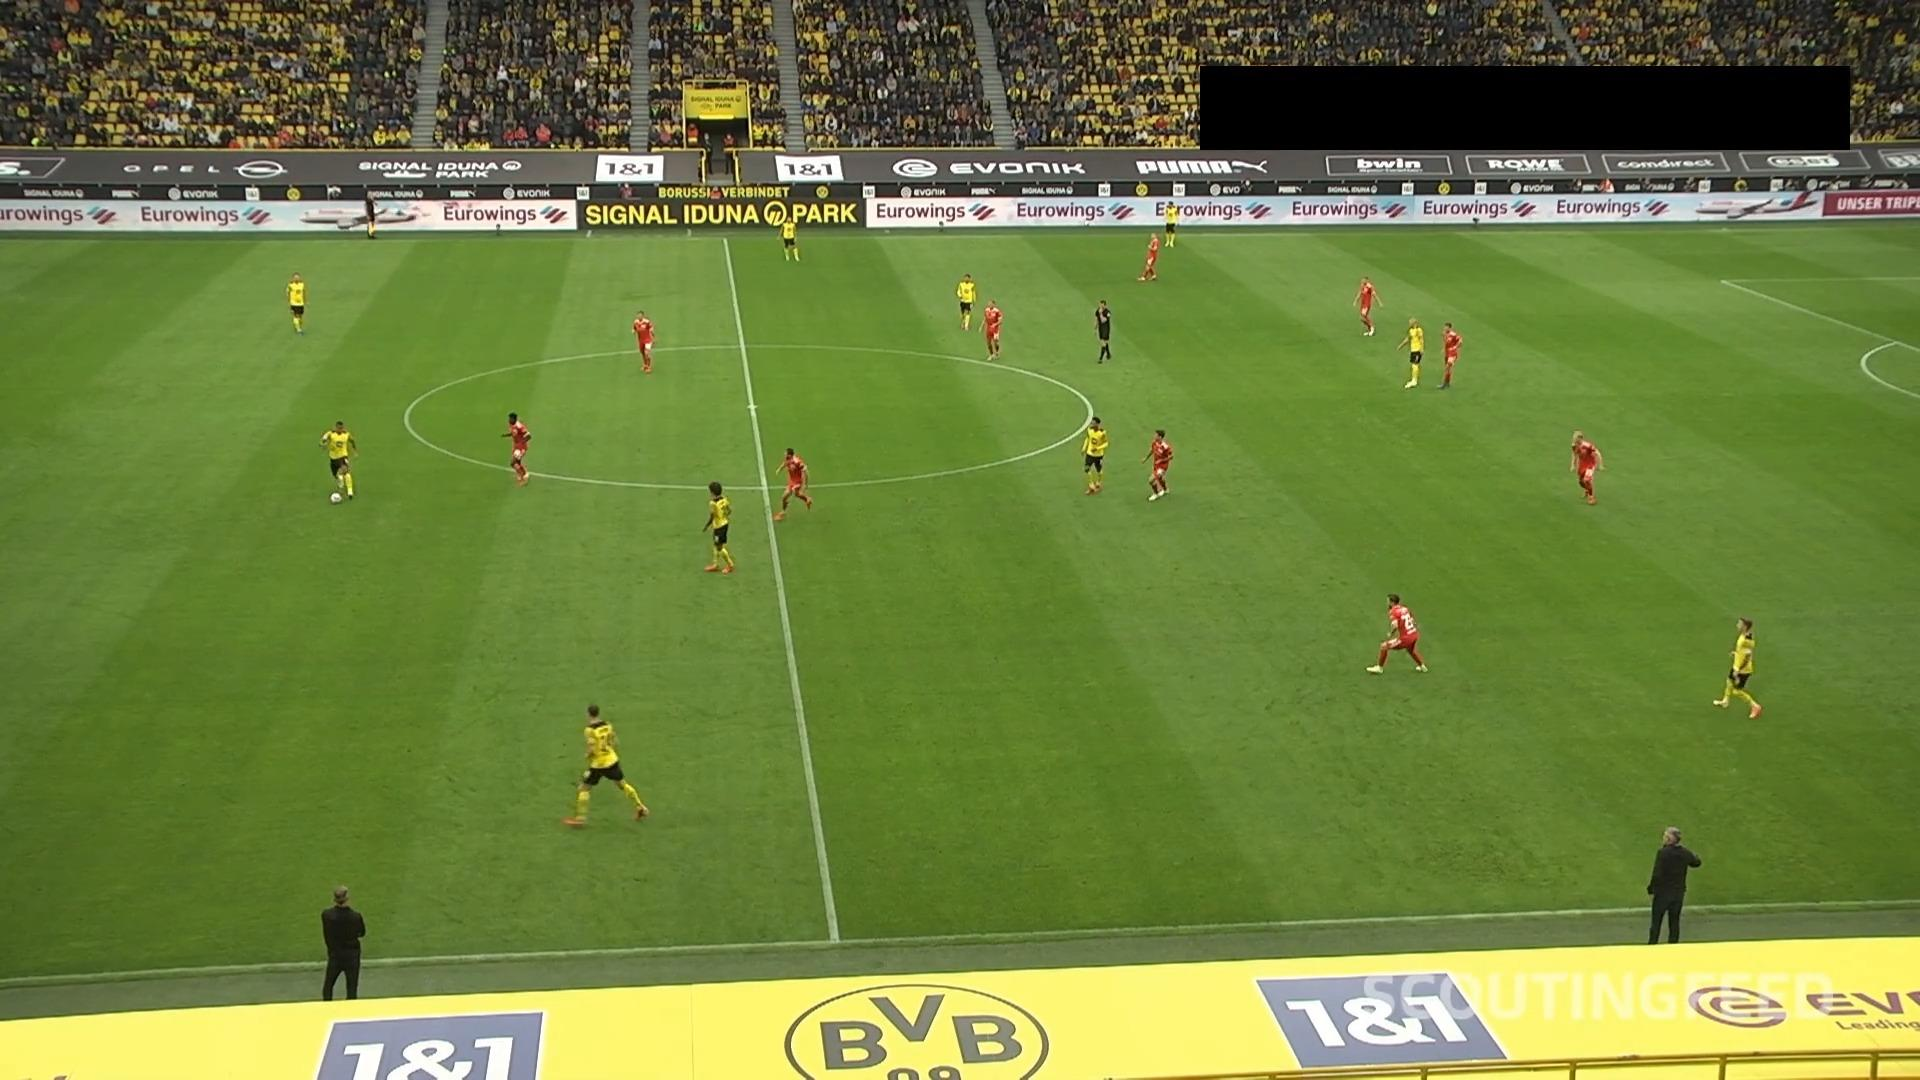ball: (328, 491, 343, 506)
